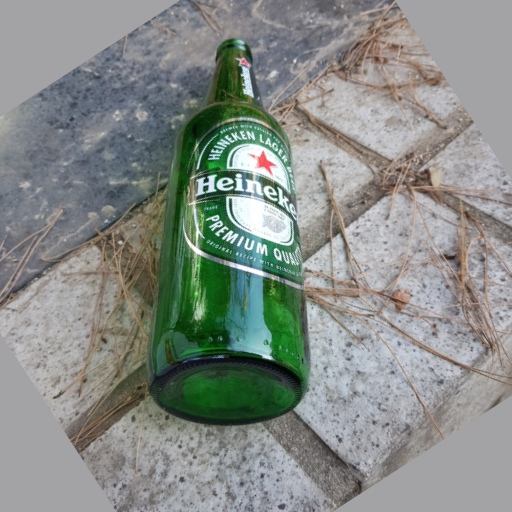Glass_1: (137, 36, 321, 421)
